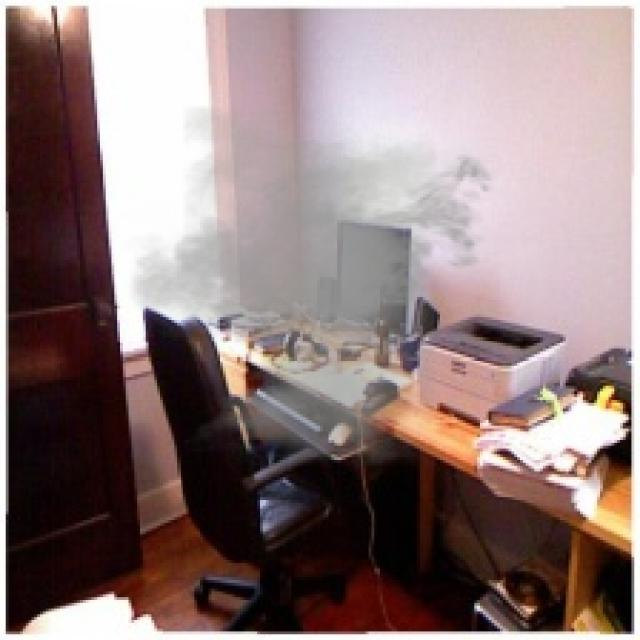smoke: (114, 106, 506, 466)
